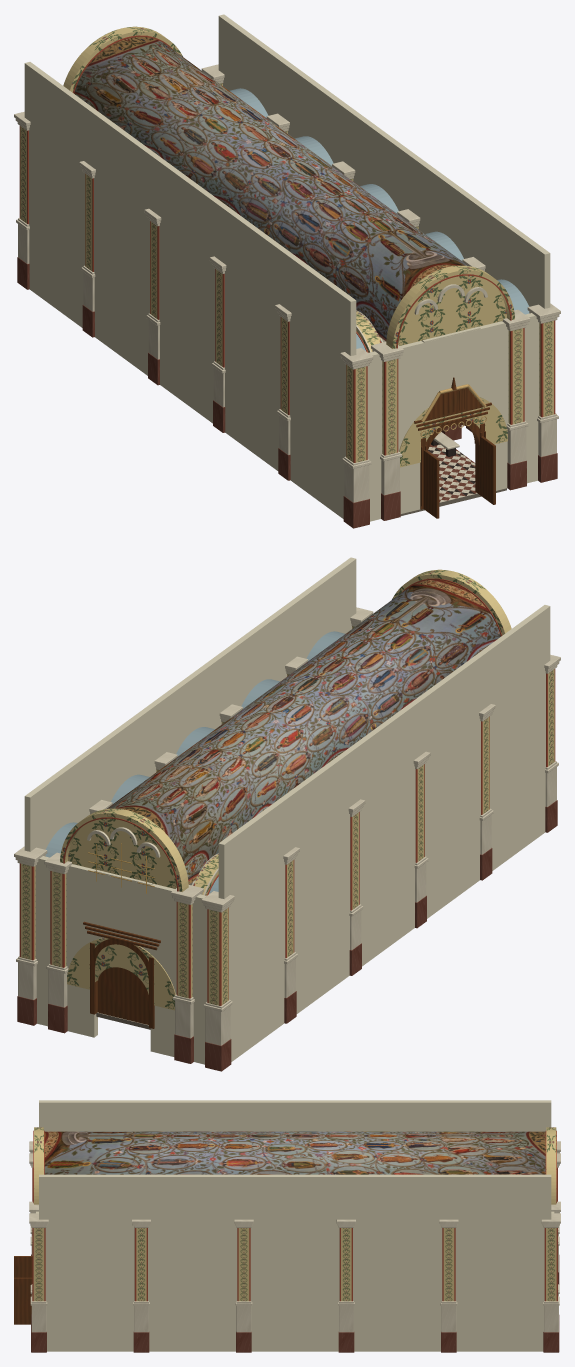
The model's file is museum-interior.glb.
The picture shows the model from 3 angles, top to bottom: view 1: azimuth 30°, elevation 25°; view 2: azimuth 150°, elevation 25°; view 3: azimuth 270°, elevation 25°; orthographic projection. The views are drawn at different scales.
Parts seen in each view (by area): view 1: Interior | warm plaster, Interior | ceiling photograph A.Savin FAL, Interior | original scrollwork, Interior | pale limestone, Interior | red marble, Interior | carved oak, Interior | vermilion border, Interior | blue limewash; view 2: Interior | warm plaster, Interior | ceiling photograph A.Savin FAL, Interior | original scrollwork, Interior | pale limestone, Interior | vermilion border, Interior | carved oak, Interior | red marble, Interior | blue limewash; view 3: Interior | warm plaster, Interior | ceiling photograph A.Savin FAL, Interior | original scrollwork, Interior | pale limestone, Interior | vermilion border, Interior | red marble, Interior | carved oak.
Part boxes in pixels (<box>): Interior | warm plaster: <box>24,14,550,521</box>; Interior | ceiling photograph A.Savin FAL: <box>74,37,467,341</box>; Interior | original scrollwork: <box>20,26,553,467</box>; Interior | pale limestone: <box>14,64,560,502</box>; Interior | red marble: <box>17,257,557,528</box>; Interior | carved oak: <box>414,377,495,518</box>; Interior | vermilion border: <box>19,35,555,462</box>; Interior | blue limewash: <box>229,88,529,350</box>; Interior | warm plaster: <box>24,557,550,1064</box>; Interior | ceiling photograph A.Savin FAL: <box>107,580,500,884</box>; Interior | original scrollwork: <box>21,569,554,1010</box>; Interior | pale limestone: <box>14,607,560,1045</box>; Interior | vermilion border: <box>19,578,555,1005</box>; Interior | carved oak: <box>83,921,160,1028</box>; Interior | red marble: <box>17,800,557,1071</box>; Interior | blue limewash: <box>45,631,345,893</box>; Interior | warm plaster: <box>36,1100,554,1351</box>; Interior | ceiling photograph A.Savin FAL: <box>44,1131,545,1174</box>; Interior | original scrollwork: <box>33,1127,556,1301</box>; Interior | pale limestone: <box>29,1141,560,1332</box>; Interior | vermilion border: <box>32,1130,557,1301</box>; Interior | red marble: <box>31,1254,559,1352</box>; Interior | carved oak: <box>14,1256,32,1324</box>.
Bounding box in the file's own units: 11.09 × 11.9 × 32.03.
Materials: 14 (6 with a texture image).
